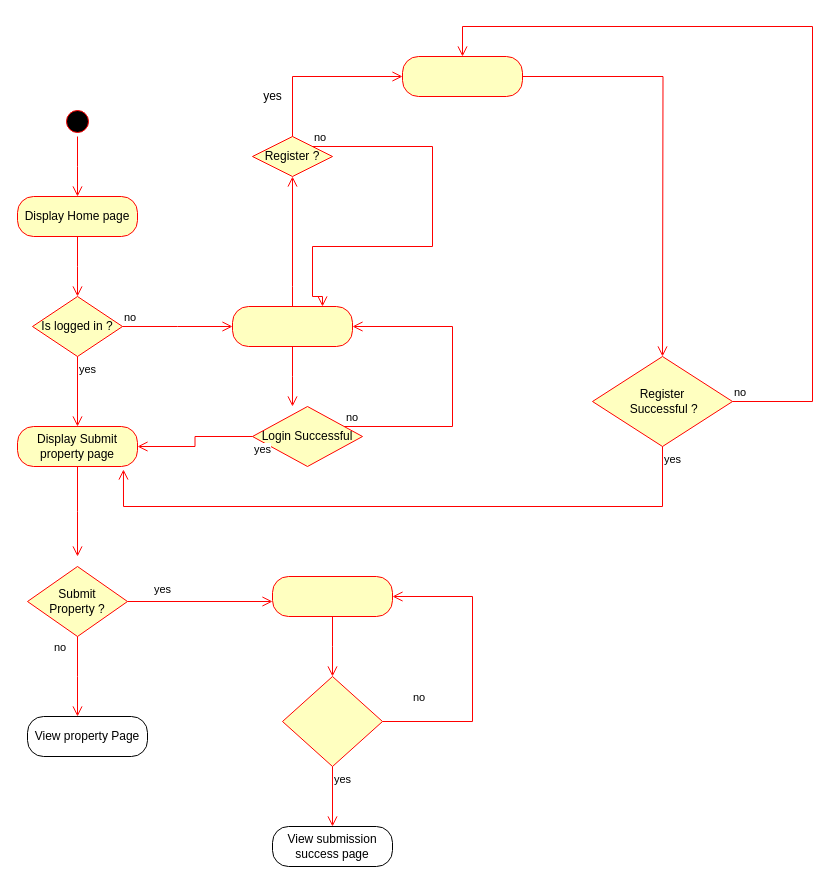
This 840x884 diagram has some shape labels left out. The centre of each missing label's shape, as x and y in pixels:
Display Login Page: the point at 292,326
Property Submission Successful ?: the point at 332,721
Register page: the point at 462,76
Submit Property Page: the point at 332,596
